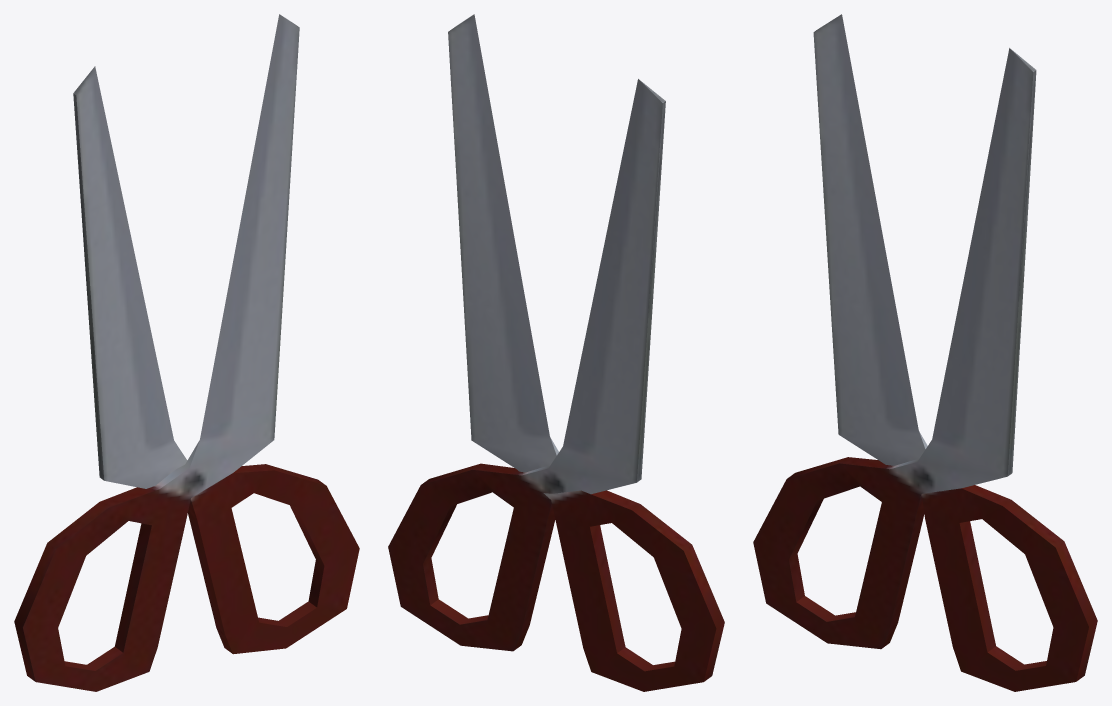
The model's file is sniksnak_05.obj.
3 renders of one model, left to right at view 1: azimuth 30°, elevation 25°; view 2: azimuth 150°, elevation 25°; view 3: azimuth 330°, elevation 25°, orthographic. The views are drawn at different scales.
Visible parts, largest first — view 1: Object06, Object05; view 2: Object06, Object05; view 3: Object05, Object06.
Part boxes in pixels (x1,y1,x2,y2): Object06: (14,14,299,691); Object05: (73,66,359,654); Object06: (448,14,724,691); Object05: (388,79,665,651); Object05: (813,14,1097,691); Object06: (753,48,1036,649).
Bounding box in the file's own units: 10.27 × 18.62 × 0.5758.
1 material, 1 textured.
